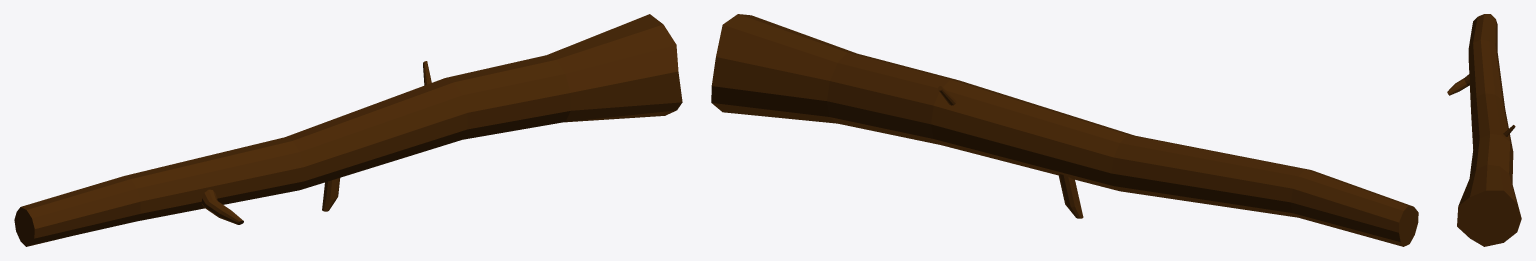
Rendered from fallen_log_variant1.fbx.
3 views of the same model, side by side, from view 1: azimuth 30°, elevation 25°; view 2: azimuth 150°, elevation 25°; view 3: azimuth 270°, elevation 25° (orthographic). The views are drawn at different scales.
Parts seen in each view (by area): view 1: Cylinder, Cylinder.003, Cylinder.002; view 2: Cylinder, Cylinder.002; view 3: Cylinder, Cylinder.003, Cylinder.004.
Part boxes in pixels (bbox=[...]): Cylinder: bbox=[14, 14, 682, 246]; Cylinder.003: bbox=[201, 189, 243, 224]; Cylinder.002: bbox=[322, 178, 340, 211]; Cylinder: bbox=[711, 14, 1418, 246]; Cylinder.002: bbox=[1058, 174, 1083, 218]; Cylinder: bbox=[1457, 14, 1521, 246]; Cylinder.003: bbox=[1447, 74, 1469, 95]; Cylinder.004: bbox=[1503, 125, 1515, 136].
Bounding box in the file's own units: 472 × 76.76 × 76.21.
